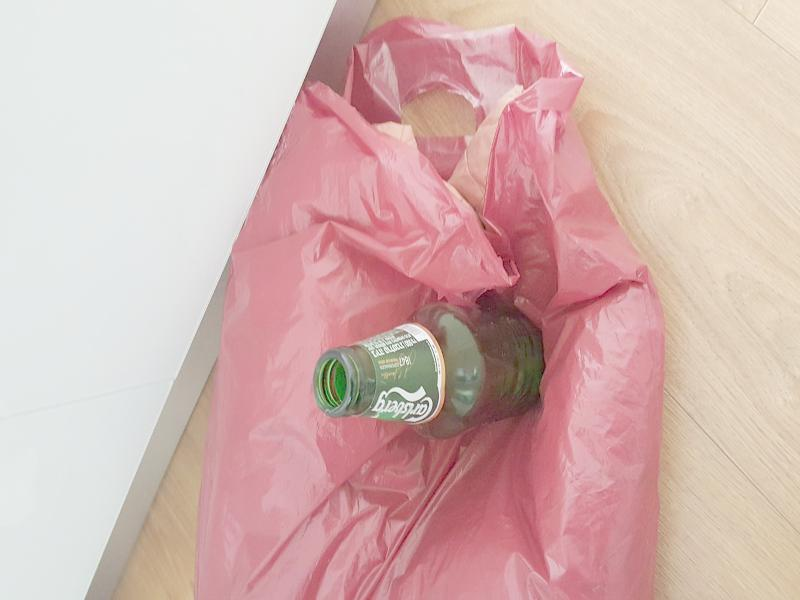Beer: (315, 302, 546, 437)
